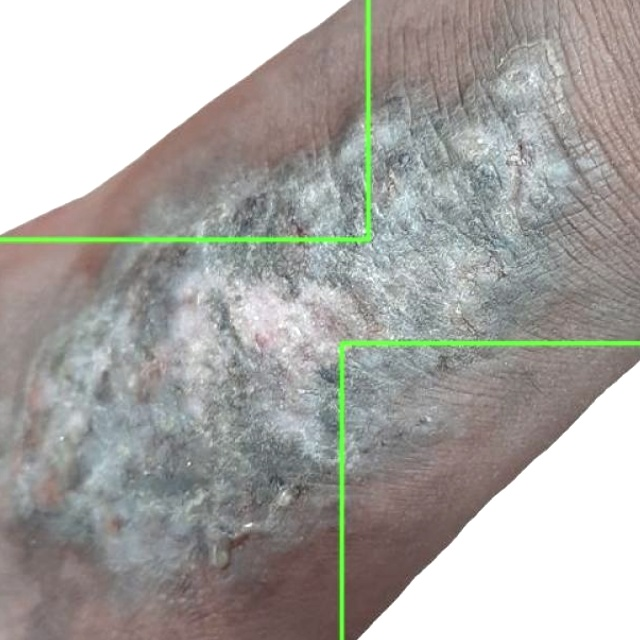Contact Dermatitis: (0, 0, 368, 239), (341, 344, 639, 639)
